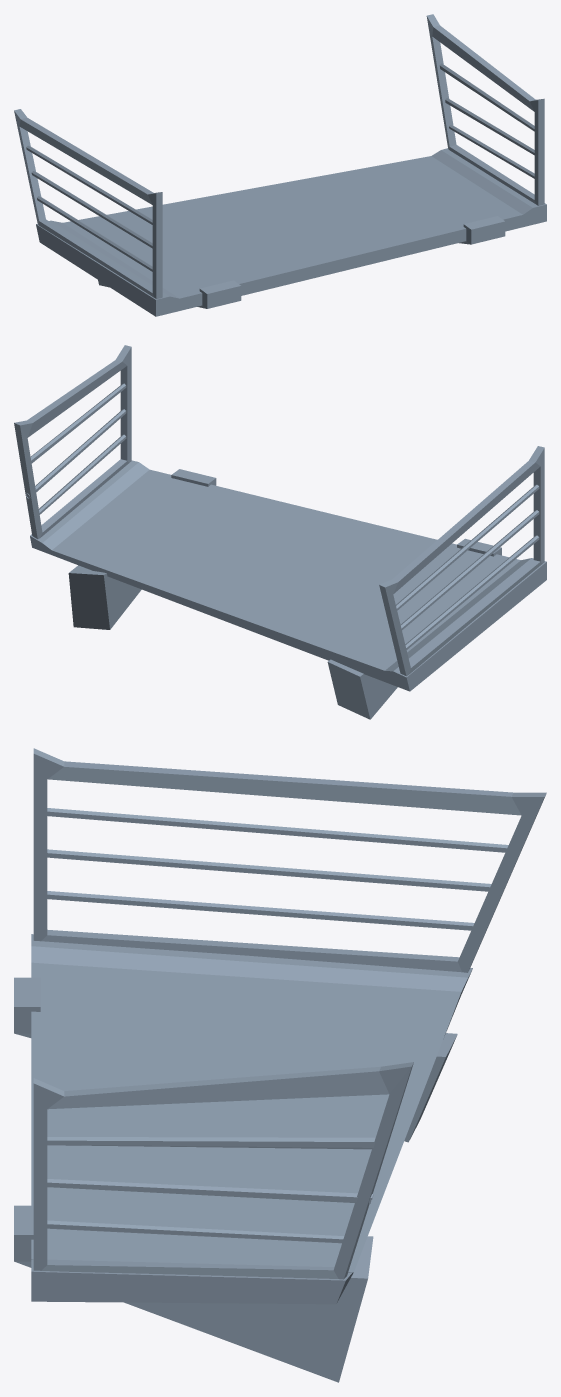
Rendered from Cube_121_geometry-panic-factory_005.fbx.
3 views of the same model, one above another, from view 1: azimuth 30°, elevation 25°; view 2: azimuth 150°, elevation 25°; view 3: azimuth 270°, elevation 25° (orthographic). The views are drawn at different scales.
Visible parts, largest first — view 1: Cube.121.geometry-panic-factory.005; view 2: Cube.121.geometry-panic-factory.005; view 3: Cube.121.geometry-panic-factory.005.
Boxes of the visible parts, left/top/right/bottom form: Cube.121.geometry-panic-factory.005: left=14, top=14, right=546, bottom=316; Cube.121.geometry-panic-factory.005: left=14, top=345, right=546, bottom=719; Cube.121.geometry-panic-factory.005: left=14, top=748, right=546, bottom=1382.
Size of the model in its own units: 2 by 0.9559 by 1.33.
